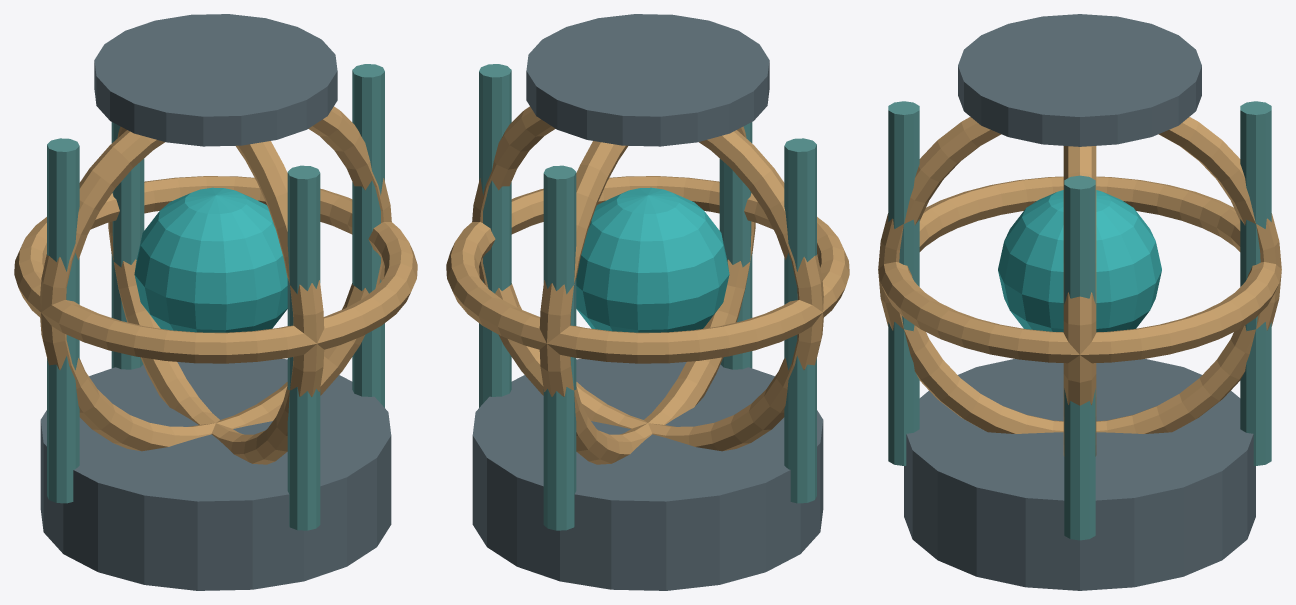
Rendered from HarmonicEngineCore.glb.
The picture shows the model from 3 angles, left to right: view 1: azimuth 30°, elevation 25°; view 2: azimuth 150°, elevation 25°; view 3: azimuth 270°, elevation 25°; orthographic projection.
Visible parts, largest first — view 1: HarmonicEngineCore; view 2: HarmonicEngineCore; view 3: HarmonicEngineCore.
Boxes of the visible parts, x1=… form: HarmonicEngineCore: x1=14, y1=14, x2=417, y2=590; HarmonicEngineCore: x1=446, y1=14, x2=849, y2=590; HarmonicEngineCore: x1=878, y1=14, x2=1281, y2=590.
Size of the model in its own units: 1.72 by 2.12 by 1.72.
